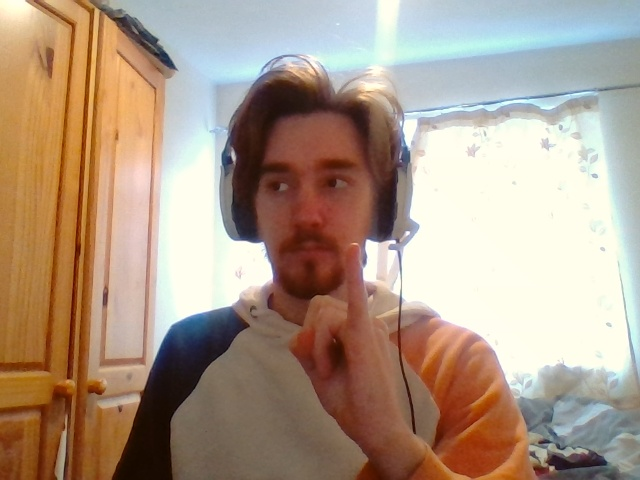bad: (291, 243, 389, 423)
